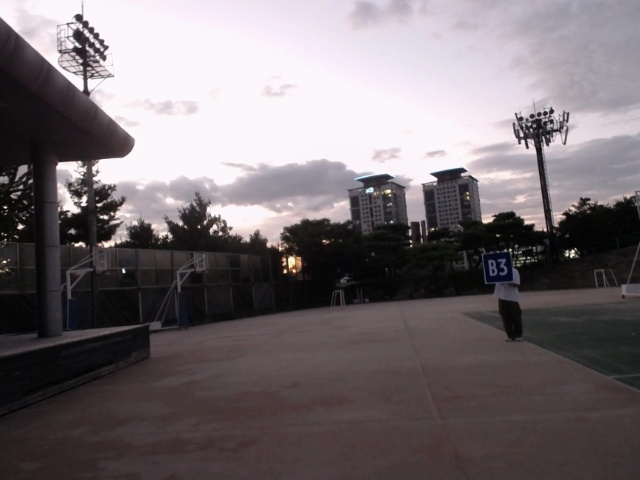delivery_b3: (480, 252, 515, 284)
